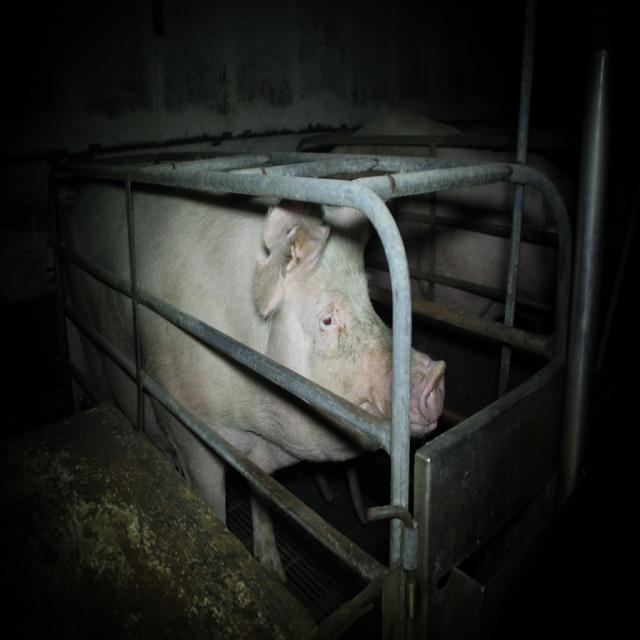Pig: (65, 178, 447, 590)
